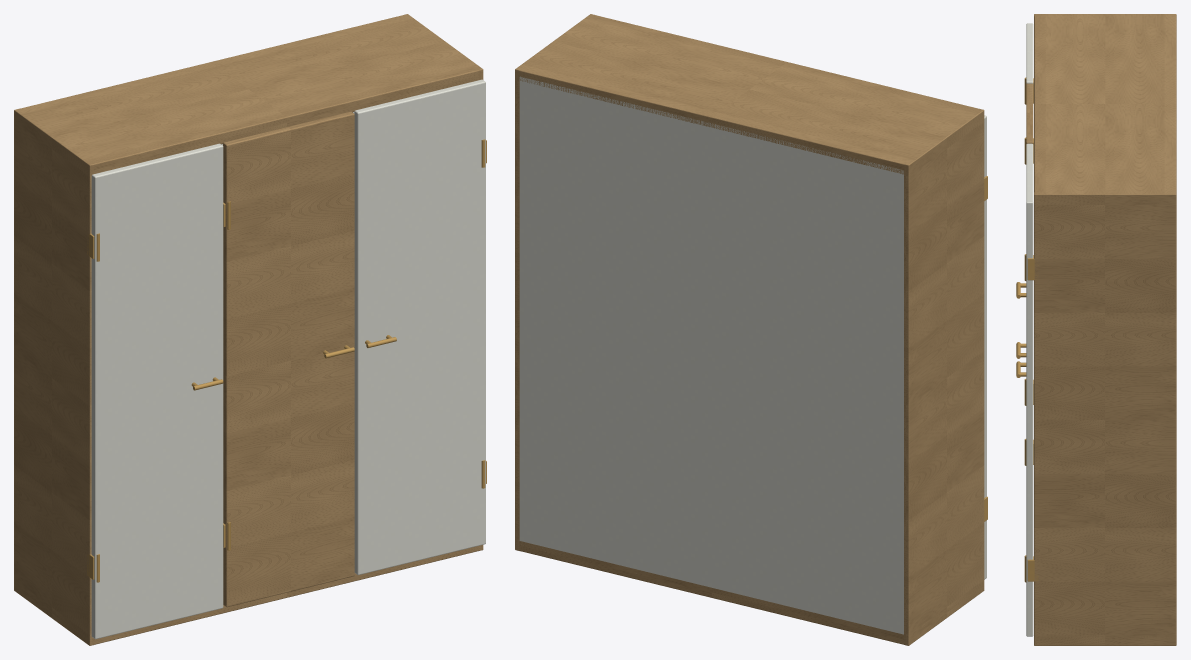
3 views of the same model, side by side, from view 1: azimuth 30°, elevation 25°; view 2: azimuth 150°, elevation 25°; view 3: azimuth 270°, elevation 25° (orthographic). The views are drawn at different scales.
Parts seen in each view (by area): view 1: Wardrobe door, Wardrobe door.002, Wardrobe door.001, Cabinet side, Cabinet top bottom.001, Cabinet top bottom; view 2: Cabinet back, Cabinet side, Cabinet top bottom.001, Cabinet top bottom, Cabinet side.001, Wardrobe door; view 3: Cabinet side.001, Cabinet top bottom.001, Wardrobe door.002, Wardrobe door, Wardrobe door.001.
Boxes of the visible parts, bbox=[...] form: Wardrobe door: bbox=[91, 143, 223, 639]; Wardrobe door.002: bbox=[354, 79, 485, 575]; Wardrobe door.001: bbox=[223, 111, 354, 607]; Cabinet side: bbox=[14, 109, 94, 645]; Cabinet top bottom.001: bbox=[15, 14, 482, 174]; Cabinet top bottom: bbox=[14, 545, 482, 644]; Cabinet back: bbox=[519, 76, 903, 634]; Cabinet side: bbox=[904, 109, 984, 645]; Cabinet top bottom.001: bbox=[516, 14, 982, 175]; Cabinet top bottom: bbox=[515, 540, 984, 644]; Cabinet side.001: bbox=[515, 14, 594, 550]; Wardrobe door: bbox=[984, 115, 986, 579]; Cabinet side.001: bbox=[1034, 192, 1176, 645]; Cabinet top bottom.001: bbox=[1034, 14, 1176, 201]; Wardrobe door.002: bbox=[1026, 143, 1033, 636]; Wardrobe door: bbox=[1026, 23, 1033, 83]; Wardrobe door.001: bbox=[1026, 83, 1033, 143].
Bounding box in the file's own units: 1.8 × 2.1 × 0.674.
Materials: 3 (3 with a texture image).
